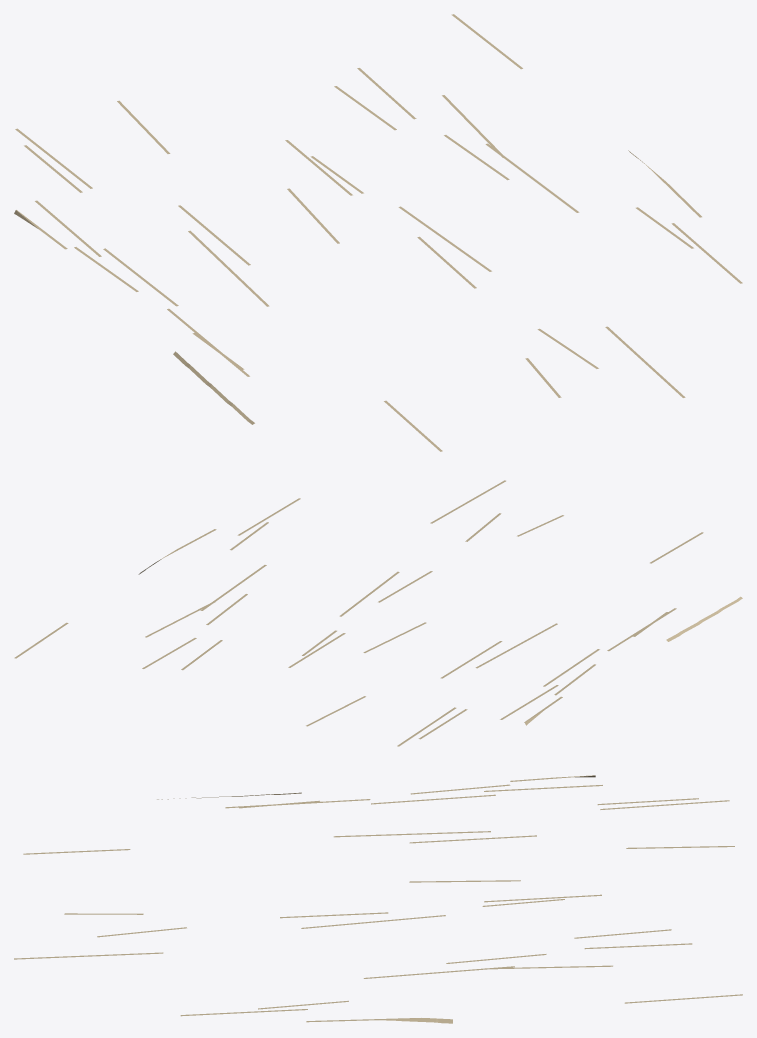
The model's file is dam_the_eye_detail1.glb.
3 renders of one model, top to bottom at view 1: azimuth 30°, elevation 25°; view 2: azimuth 150°, elevation 25°; view 3: azimuth 270°, elevation 25°, orthographic. The views are drawn at different scales.
Visible parts, largest first — view 1: dam_the_eye_detail1; view 2: dam_the_eye_detail1; view 3: dam_the_eye_detail1.
Part boxes in pixels (x1=…): dam_the_eye_detail1: x1=14, y1=14, x2=742, y2=451; dam_the_eye_detail1: x1=14, y1=480, x2=742, y2=746; dam_the_eye_detail1: x1=14, y1=775, x2=742, y2=1023.
Size of the model in its own units: 28.79 by 2.26 by 37.04.
